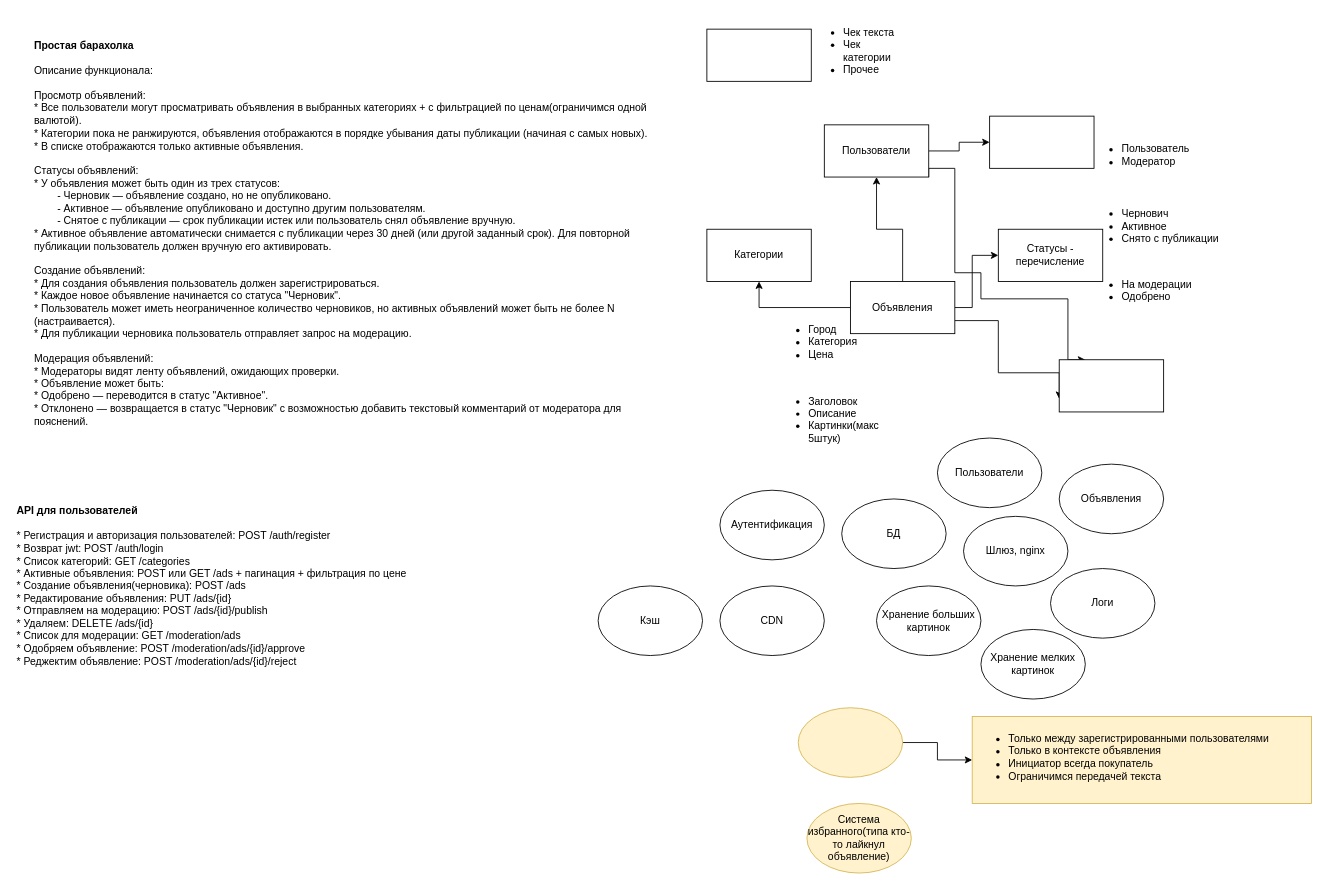
Some shapes in this 1327 by 888 pixel diagram are drawn without their labels. The shapes that lost their labels are listed below. From the top down, each one's box as (x1, y1, x2, y2) in pixels, then its label:
(706, 28, 811, 81): Модерация
(989, 115, 1094, 168): роли
(1058, 359, 1164, 412): города
(797, 707, 903, 777): Чат
